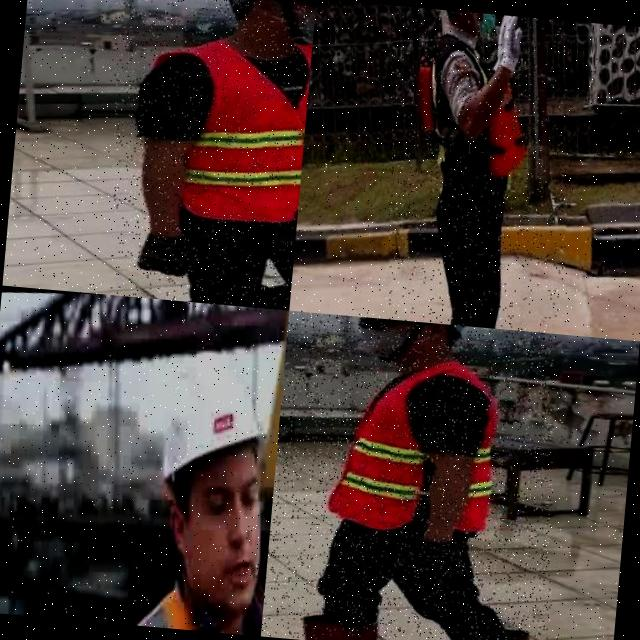boots: (260, 607, 379, 640), (413, 624, 538, 640)
helmet: (150, 347, 276, 492)
vest: (317, 350, 507, 546), (170, 25, 312, 228), (404, 28, 540, 204)
